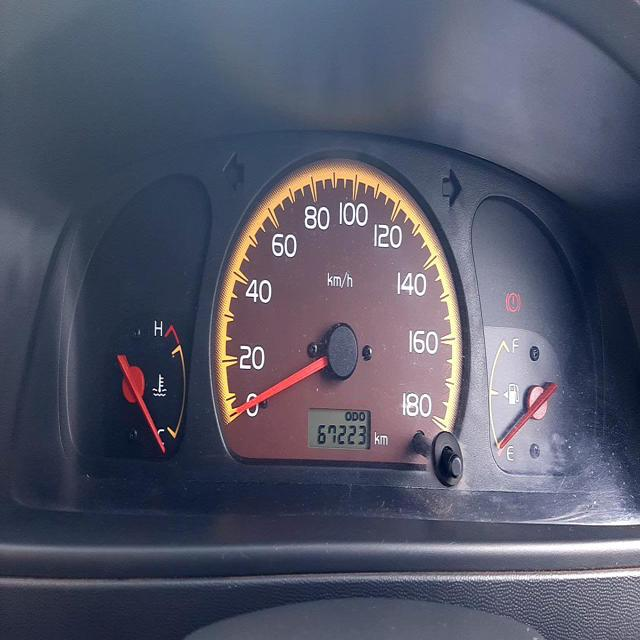odometer: (316, 420, 367, 449)
